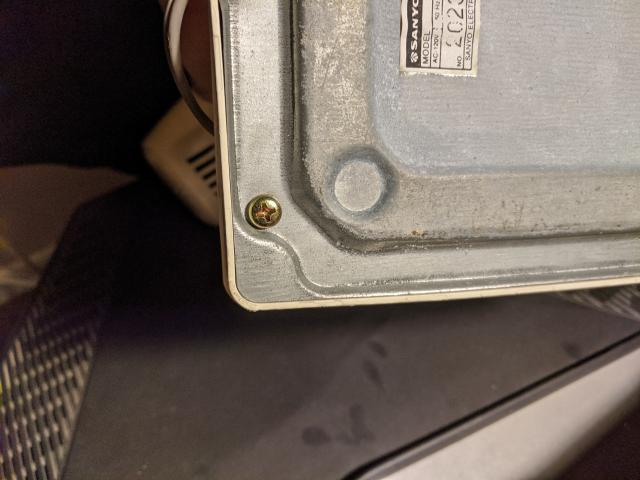CRS: (247, 196, 282, 229)
